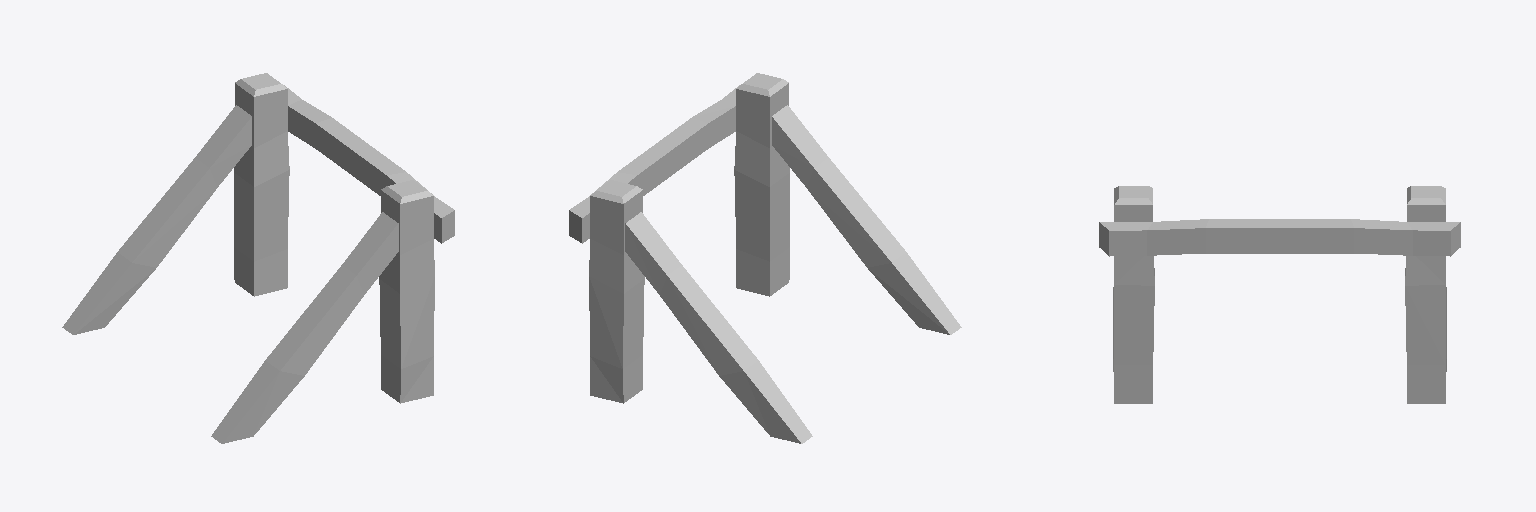
File: Buffer_Stop.obj
3 renders of one model, left to right at view 1: azimuth 30°, elevation 25°; view 2: azimuth 150°, elevation 25°; view 3: azimuth 270°, elevation 25°, orthographic.
Parts seen in each view (by area): view 1: Buffer_Stop; view 2: Buffer_Stop; view 3: Buffer_Stop.
Part boxes in pixels (bbox=[...]): Buffer_Stop: bbox=[62, 73, 454, 443]; Buffer_Stop: bbox=[569, 73, 961, 443]; Buffer_Stop: bbox=[1099, 186, 1460, 403].
Bounding box in the file's own units: 1.01 × 0.8622 × 1.38.